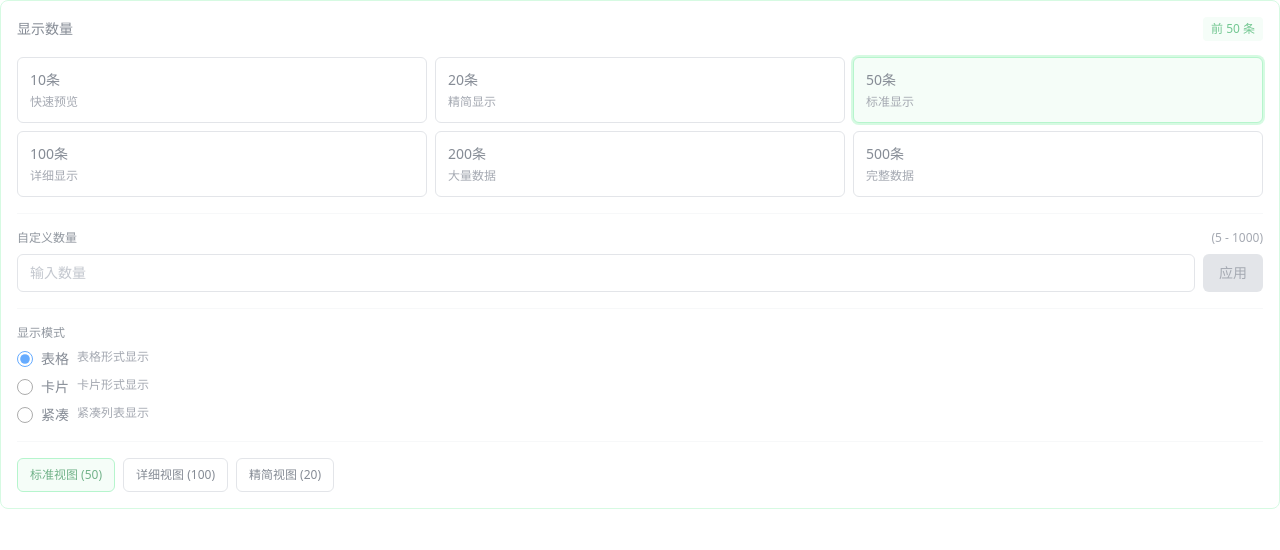
Test: HotWordLimitSelector › 自定义数量功能 › 应该拒绝非整数值
In the number field with id "custom-limit": {"x": 606, "y": 273} [17, 254, 1195, 292], type "50.5"
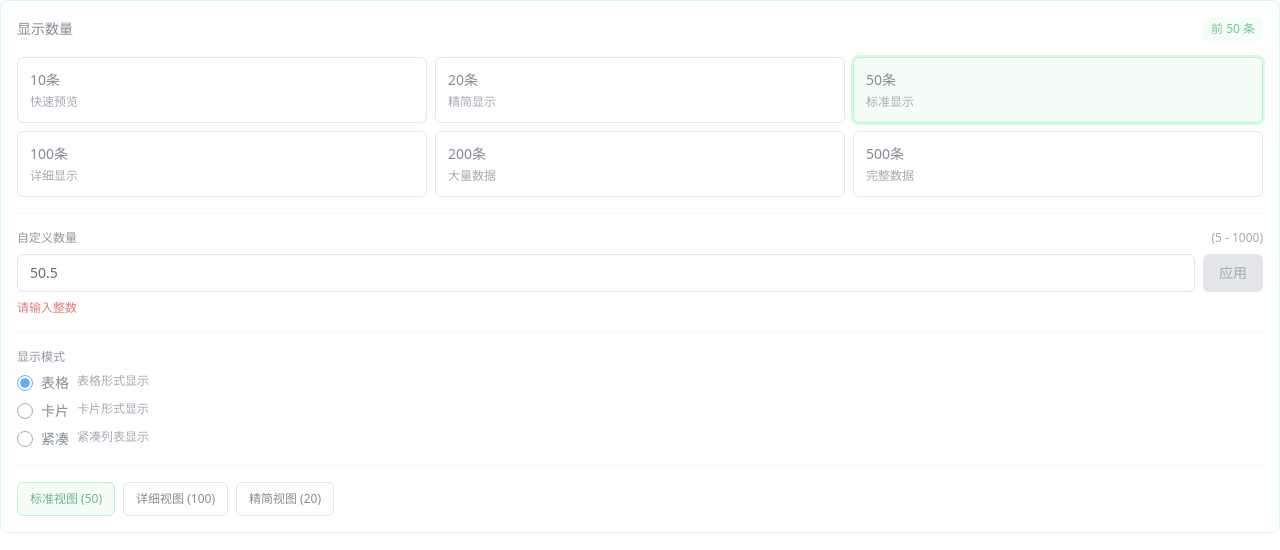
Now the text "请输入整数" is shown, box [17, 300, 77, 316]
Now the text with class "error-message" reads "请输入整数", box [17, 299, 77, 316]
